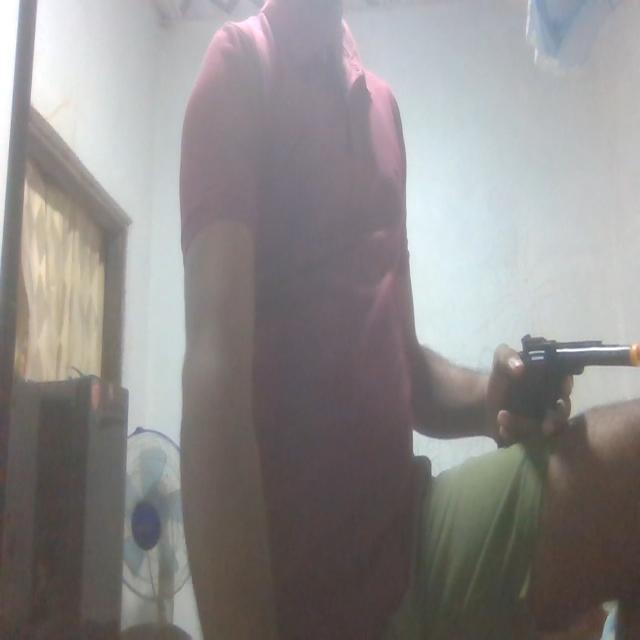Gun_Holder: (493, 313, 640, 492)
Person: (183, 0, 640, 640)
